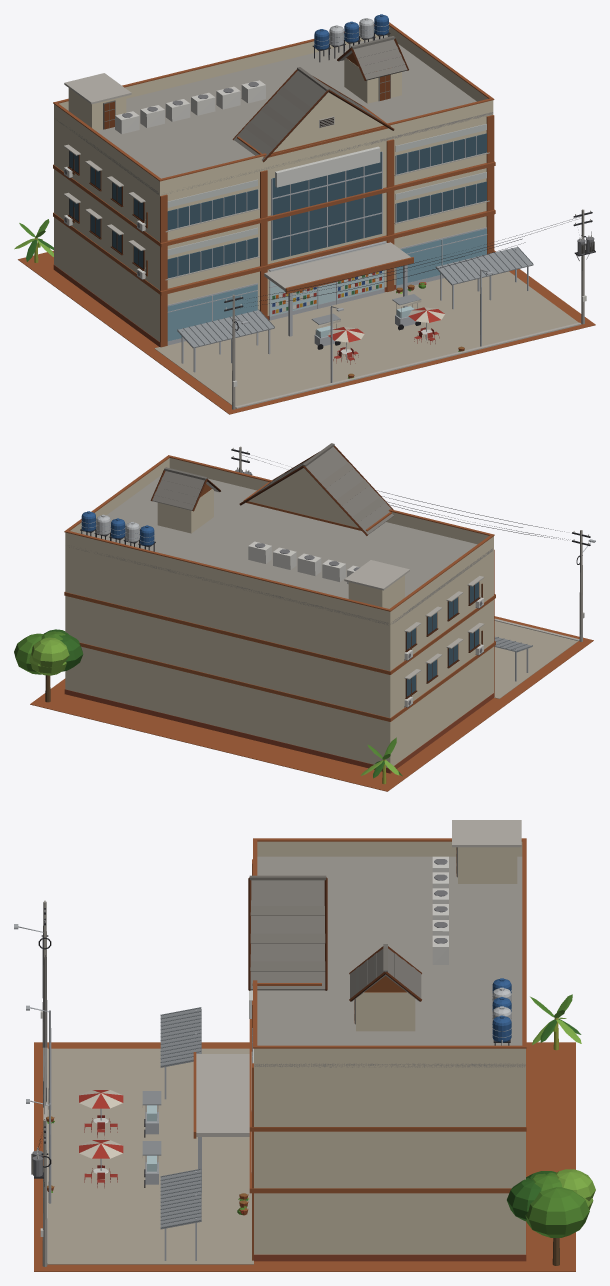
Rendered from shop_5.glb.
3 views of the same model, one above another, from view 1: azimuth 30°, elevation 25°; view 2: azimuth 150°, elevation 25°; view 3: azimuth 270°, elevation 25° (orthographic). The views are drawn at different scales.
Visible parts, largest first — view 1: body, windows; view 2: body, windows; view 3: body.
Boxes of the visible parts, bbox=[...] form: body: bbox=[14, 14, 595, 414]; windows: bbox=[69, 117, 486, 278]; body: bbox=[14, 443, 595, 791]; windows: bbox=[406, 582, 478, 696]; body: bbox=[14, 820, 595, 1271].
Bounding box in the file's own units: 34.33 × 18.58 × 34.25.
